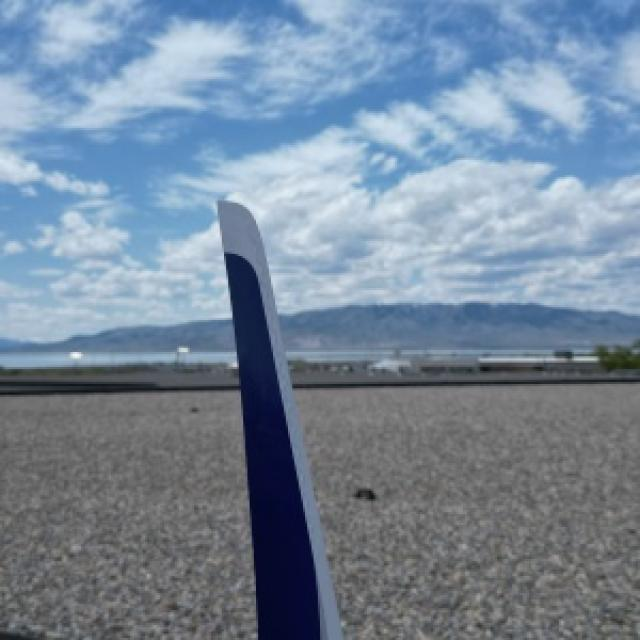healthy: (218, 198, 339, 638)
